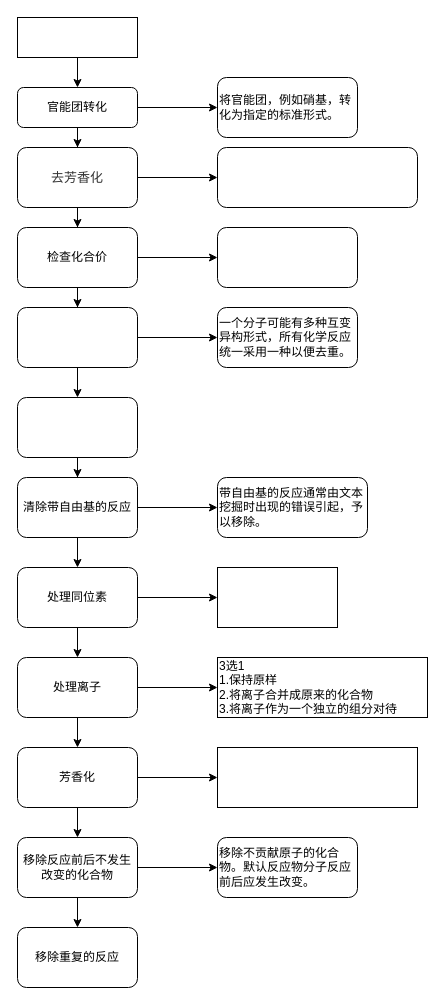
Image size: 445x1005. Some labels were removed from this diagram. The centre of each missing label's shape, as x and y in pixels:
"3选1 1.保持原样 2.去除同位素信息 3.删除该反应" goes at point (277, 597).
"反应标准化流程" goes at point (77, 37).
"所有分子先转换到Kekule形式。其中杂环上氢原子信息缺失的分子会难以再现分子结构，予以删除。" goes at point (317, 177).
"检查每个原子的化合价，若不正确则删除反应。" goes at point (287, 257).
"移除显示氢原子" goes at point (77, 427).
"遵循Huckel 规则。如果芳香化容易使氢原子所在位置发生争议，则保留Kekule形式，例如吡咯类杂环化合物。" goes at point (317, 777).
"采用分子的主要互变异构形式" goes at point (77, 337).
